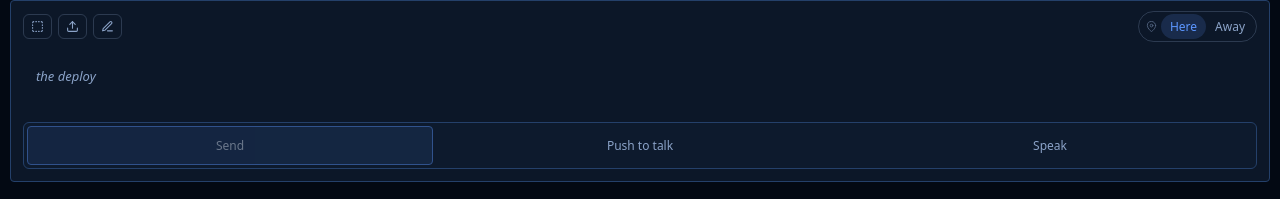
Test case: ComposeBox — the interim is painted IN the prompt bar › continues the draft on the same line — one space, and the phrase comes LAST
This screenshot has width=1280, height=199.
In the text box named "Message": (640, 85) [23,56,1257,114], type "approve"
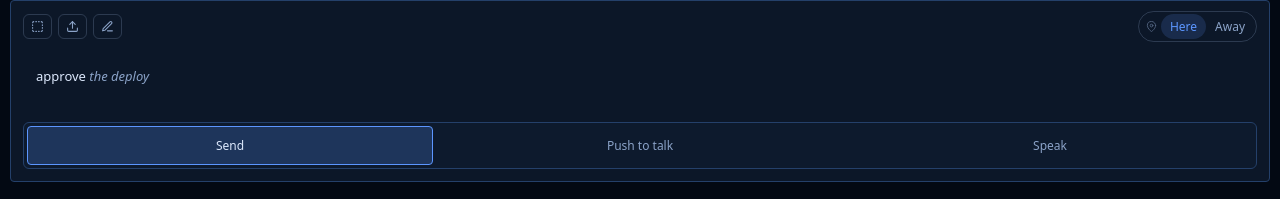
Expected: the text with test id "concierge-interim" reads "the deploy", [86,67,149,85]
Result: the element with test id "concierge-compose-mention-mirror" reads "approve the deploy" at [36,67,149,85]
